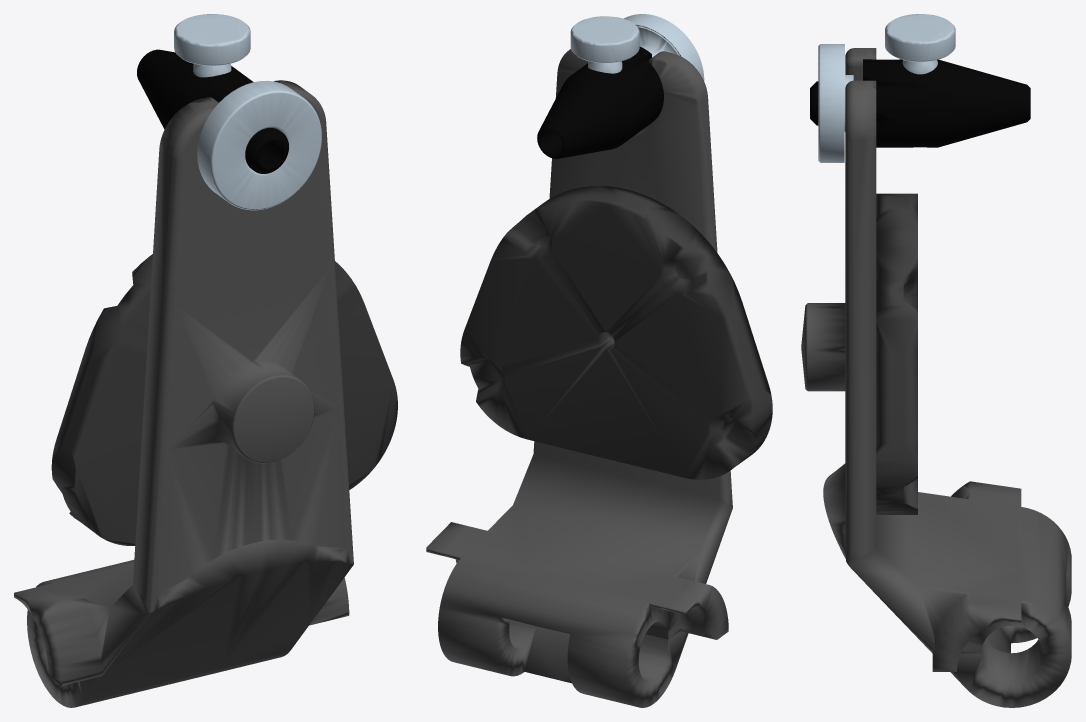
File: upperparts_1.obj
The picture shows the model from 3 angles, left to right: view 1: azimuth 30°, elevation 25°; view 2: azimuth 150°, elevation 25°; view 3: azimuth 270°, elevation 25°; orthographic projection. The views are drawn at different scales.
Size of the model in its own units: 78.26 by 158 by 61.34.
